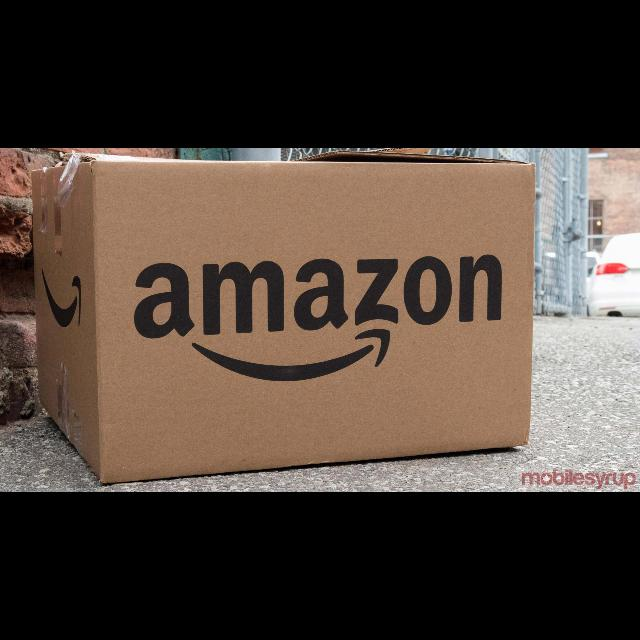box: (30, 152, 530, 486)
